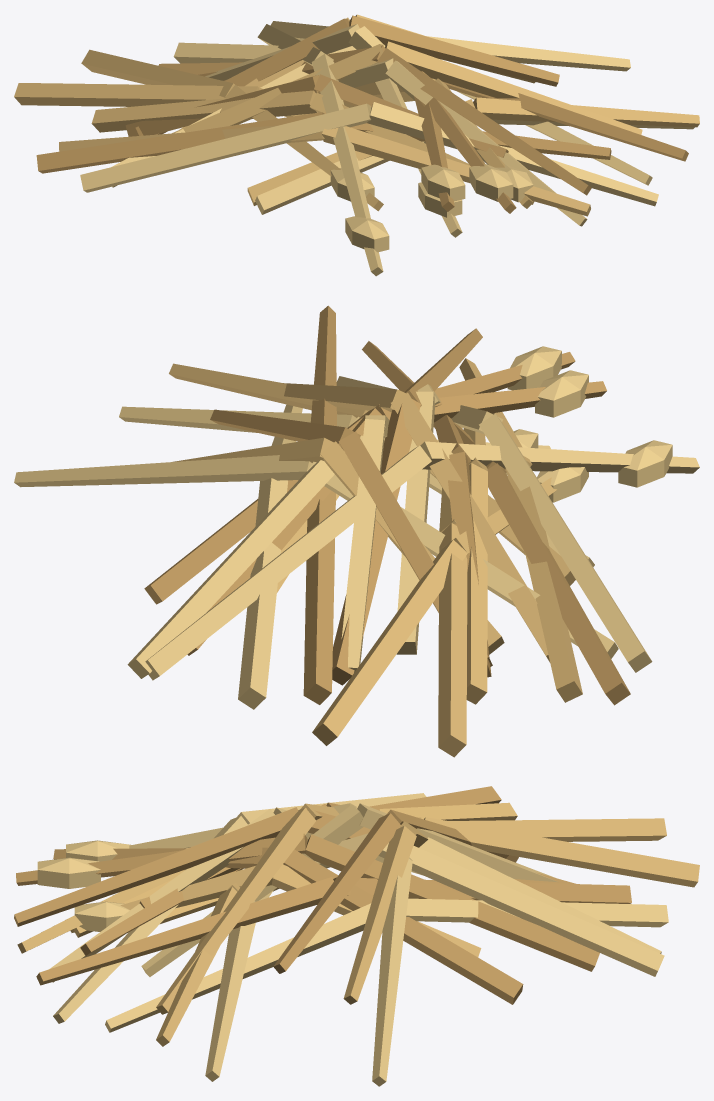
File: nest_straw.glb
3 views of the same model, one above another, from view 1: azimuth 30°, elevation 25°; view 2: azimuth 150°, elevation 25°; view 3: azimuth 270°, elevation 25° (orthographic). The views are drawn at different scales.
Size of the model in its own units: 0.8695 by 0.1996 by 0.8615.
